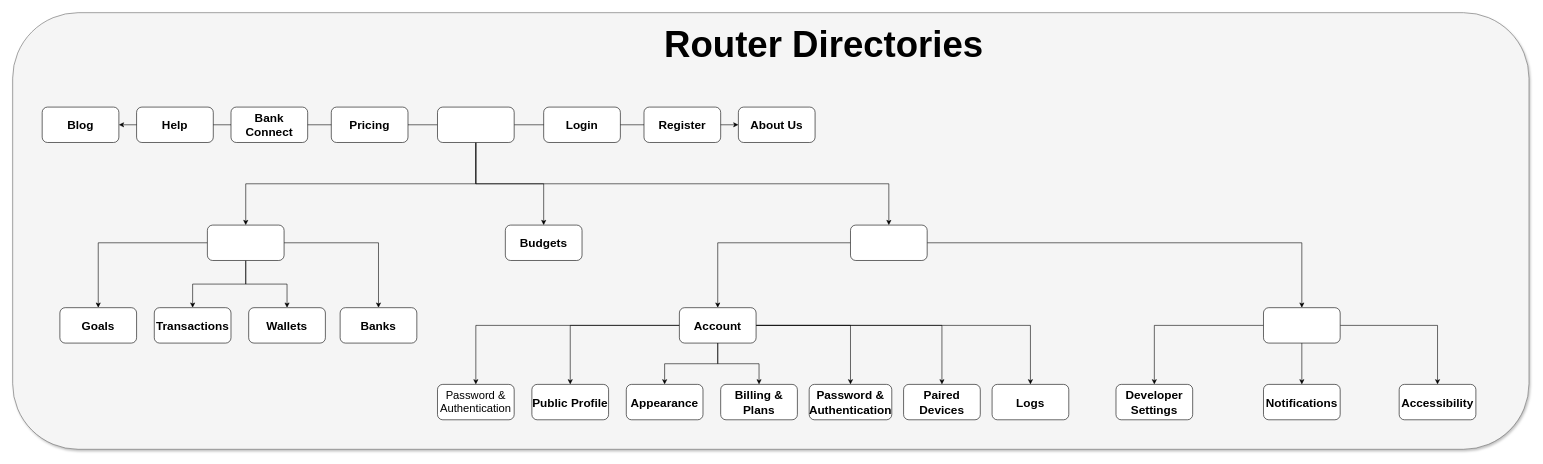
The diagram is 1543 pixels wide and 464 high, and some of its shapes have lost their labels. The shapes that lost their labels are listed below. From the top down, each one's centre as x and y in pixels, then its label:
At (475,124): "APP".
At (245,242): "Dashboard".
At (888,242): "Settin gs".
At (1301,325): "Application".
